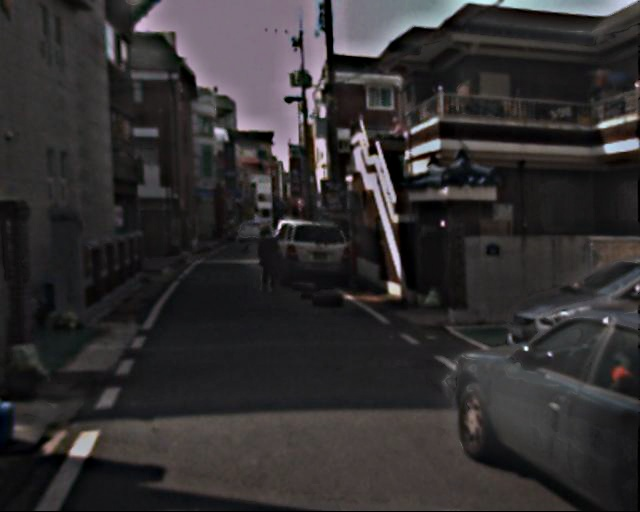person: (253, 225, 280, 292)
